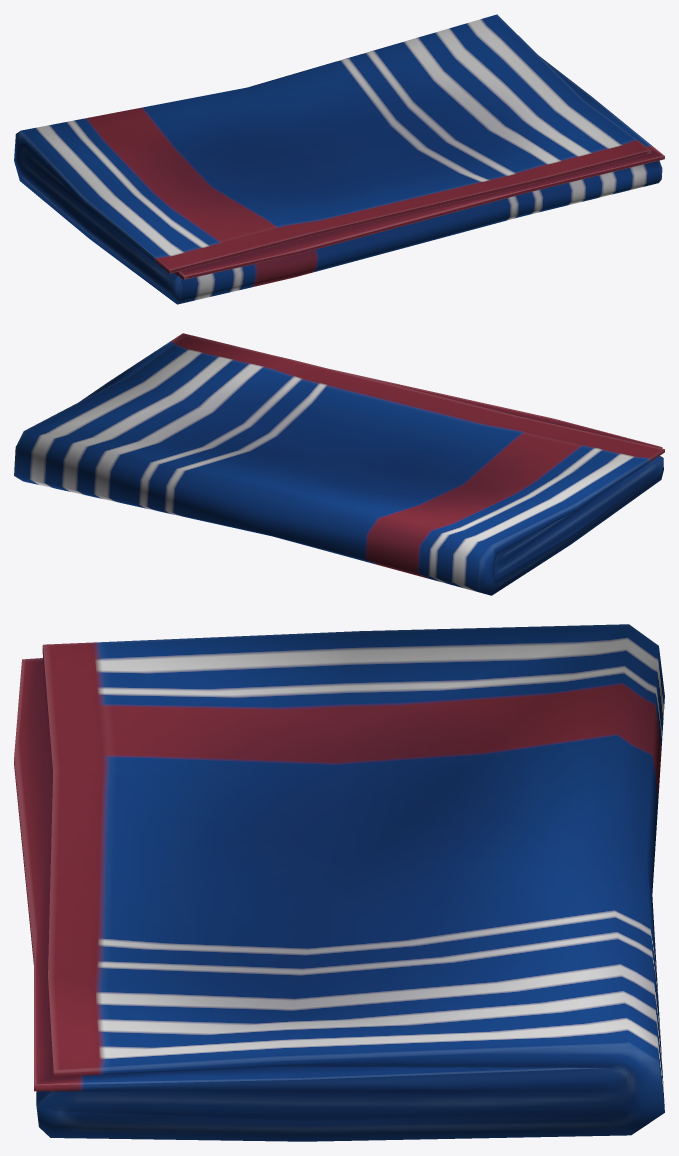
The model's file is set_longtowel_03.fbx.
3 views of the same model, one above another, from view 1: azimuth 30°, elevation 25°; view 2: azimuth 150°, elevation 25°; view 3: azimuth 270°, elevation 25° (orthographic). The views are drawn at different scales.
Parts seen in each view (by area): view 1: set_longtowel_03; view 2: set_longtowel_03; view 3: set_longtowel_03.
Boxes of the visible parts, left/top/right/bottom form: set_longtowel_03: left=14, top=14, right=664, bottom=304; set_longtowel_03: left=14, top=333, right=664, bottom=595; set_longtowel_03: left=14, top=624, right=664, bottom=1141.
Bounding box in the file's own units: 31.63 × 3.21 × 19.98.
